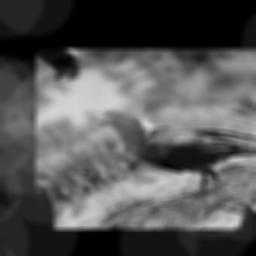Crow: (84, 69, 256, 212)
